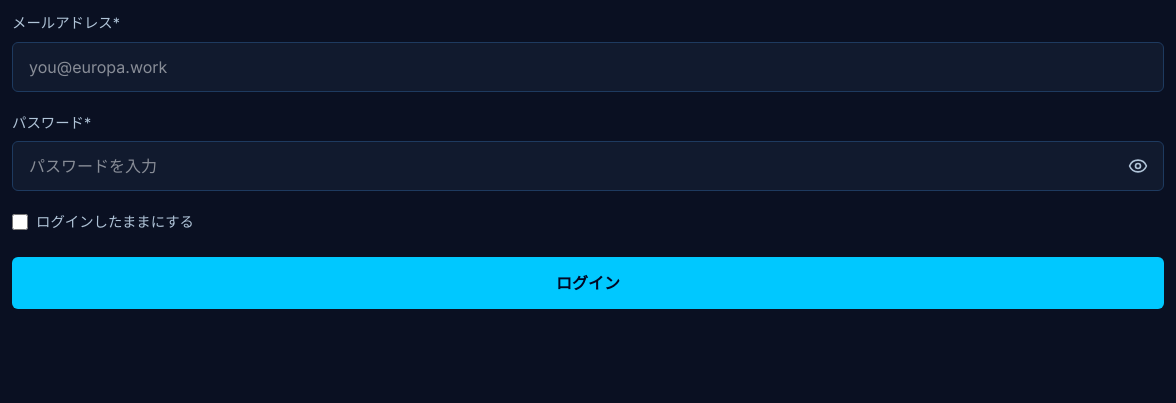
Scenario: LoginForm › Two-Factor Authentication (OTP) › should transition to OTP step when login requires 2FA
Type "test@example.com" into the field labelled "メールアドレス*". click: (588, 67)
box: 12,42 -> 1164,92
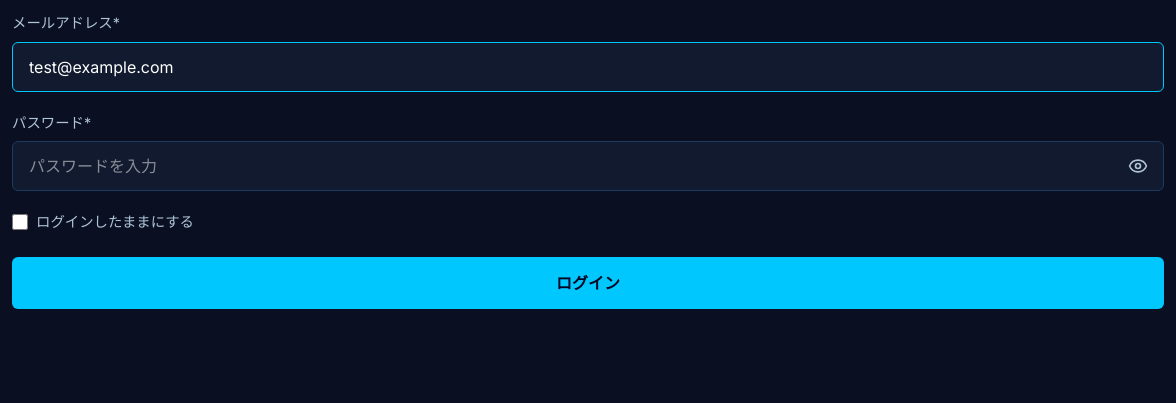
Type "password123" into the password field labelled "パスワード*". click: (588, 166)
box: 12,141 -> 1164,191
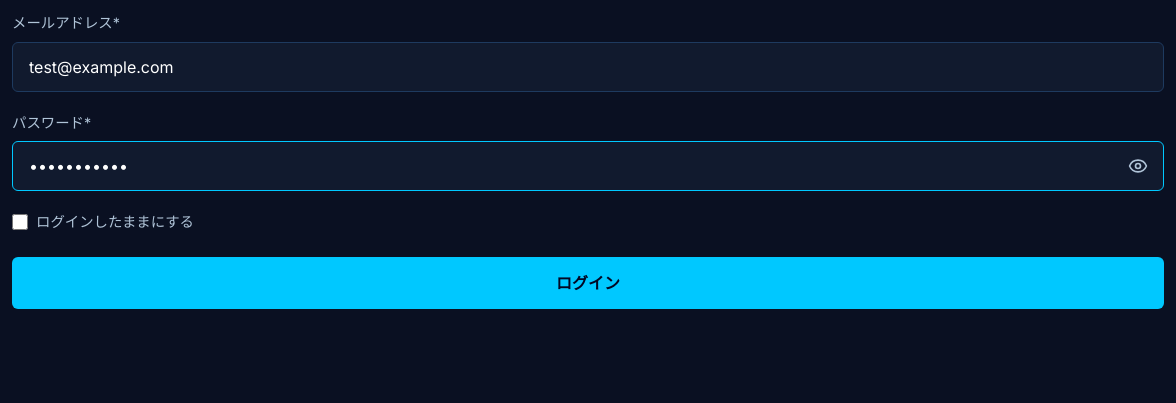
Click the button "ログイン". click: (588, 283)
box: 12,257 -> 1164,309
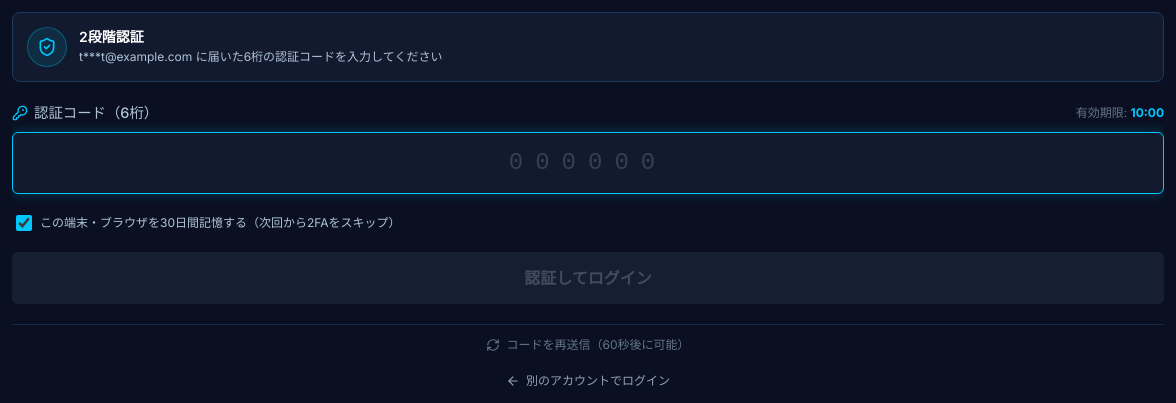
Result: the text "2段階認証" is shown at 79,28 -> 144,45
Result: the field labelled "認証コード（6桁）" is shown at 12,132 -> 1164,194
Result: the button "認証してログイン" is shown at 12,252 -> 1164,304
